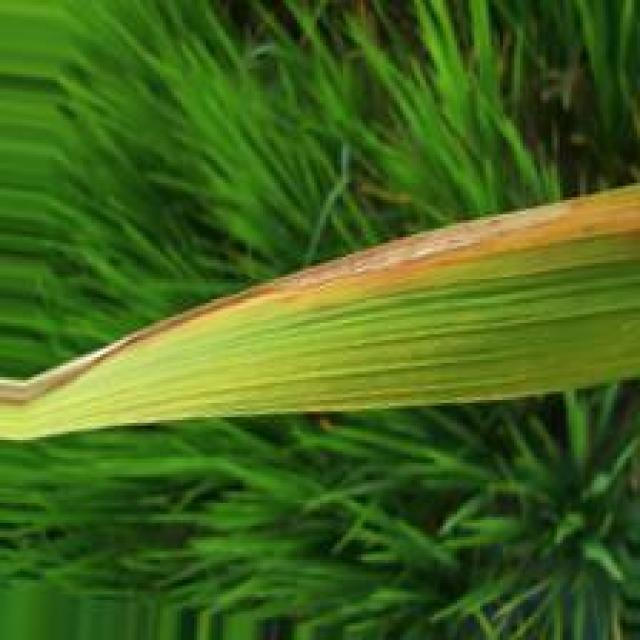Leaf_Scald: (1, 194, 640, 409)
